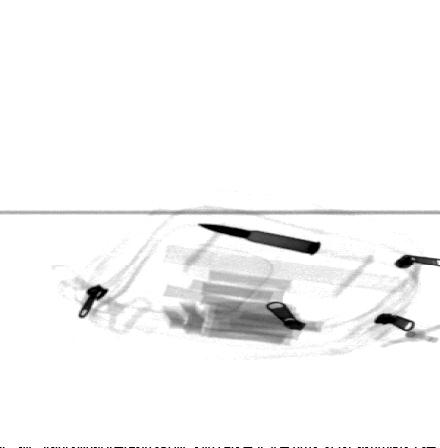Bullet: (193, 223, 323, 257)
